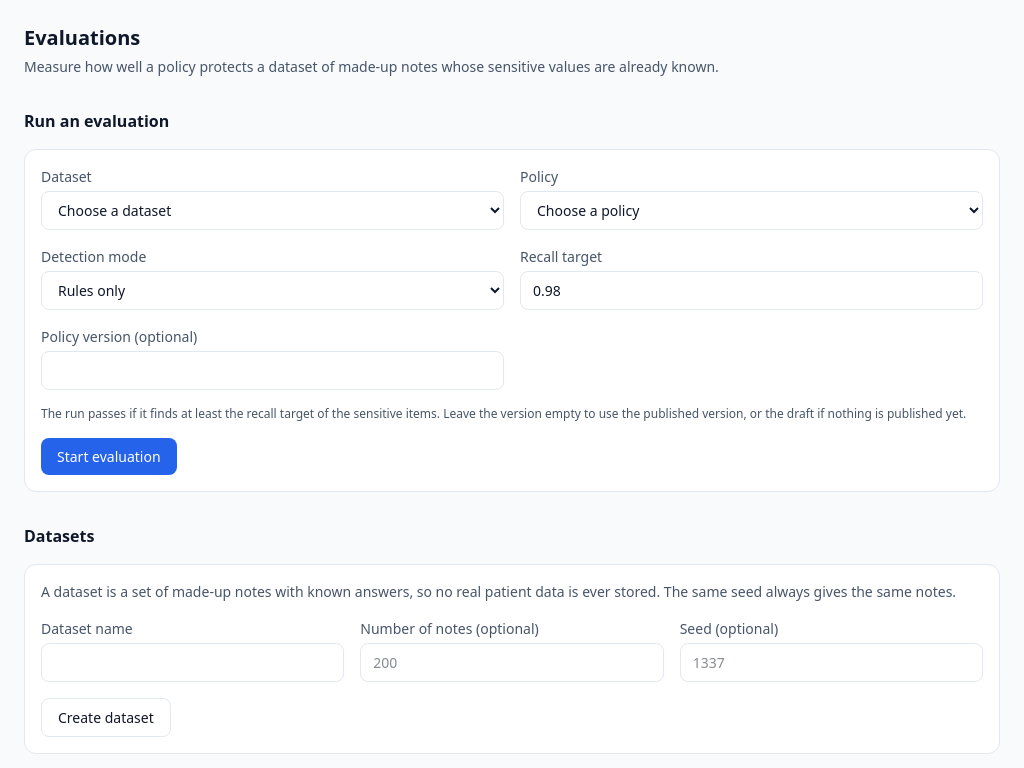
Test: EvaluationsPage › asks for a dataset and a policy before it starts
Click the button "Start evaluation". click: point(109, 456)
box: [41,438,177,475]
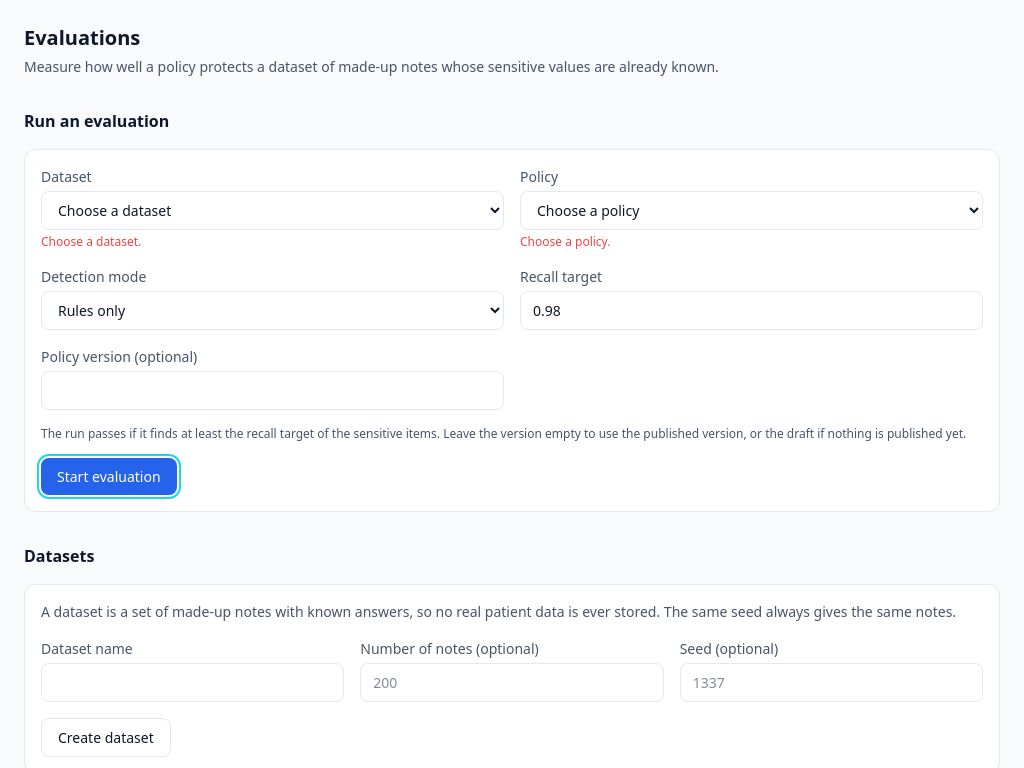
Now the text "Choose a dataset." is shown, box [41,233,141,250]
Now the text "Choose a policy." is shown, box [520,233,610,250]
